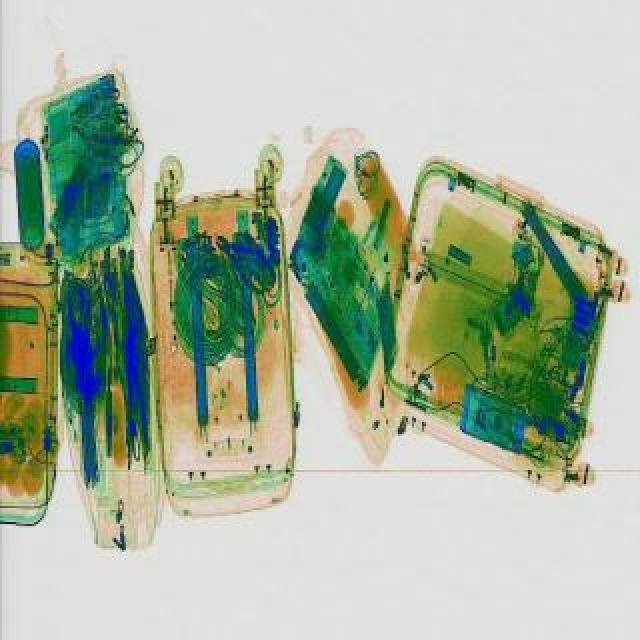wrench: (202, 228, 284, 300)
